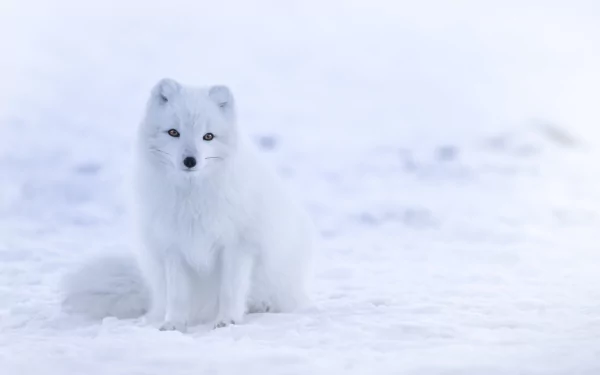arcticfox: (152, 103, 218, 191)
